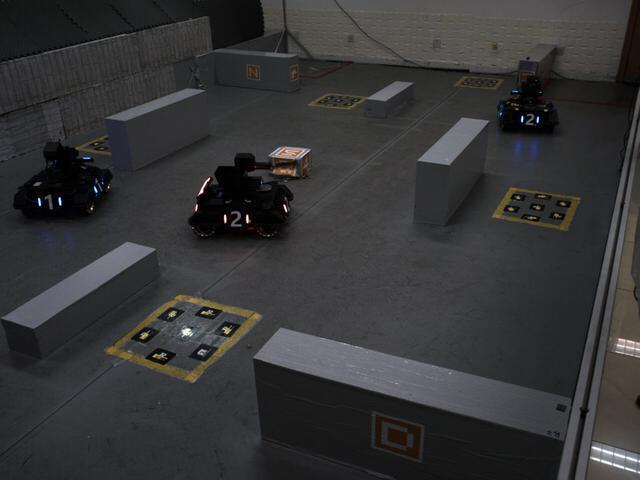armor: (217, 205, 253, 231), (34, 188, 66, 215), (88, 173, 109, 201), (516, 110, 543, 129)
